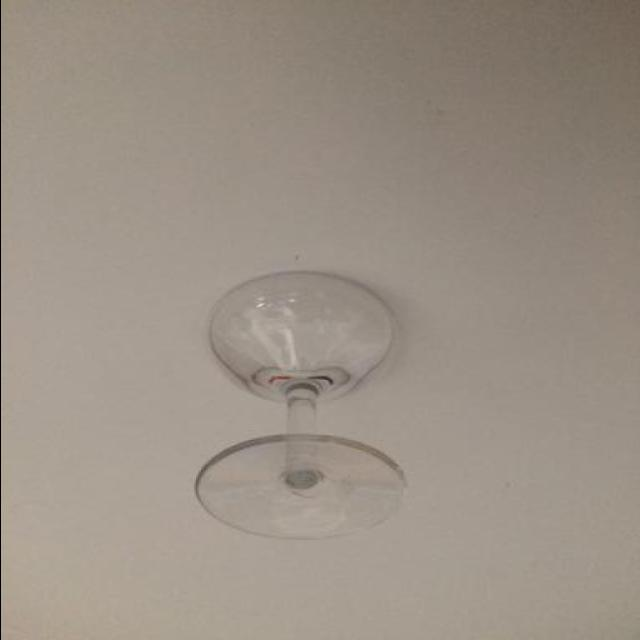glass: (182, 232, 430, 544)
